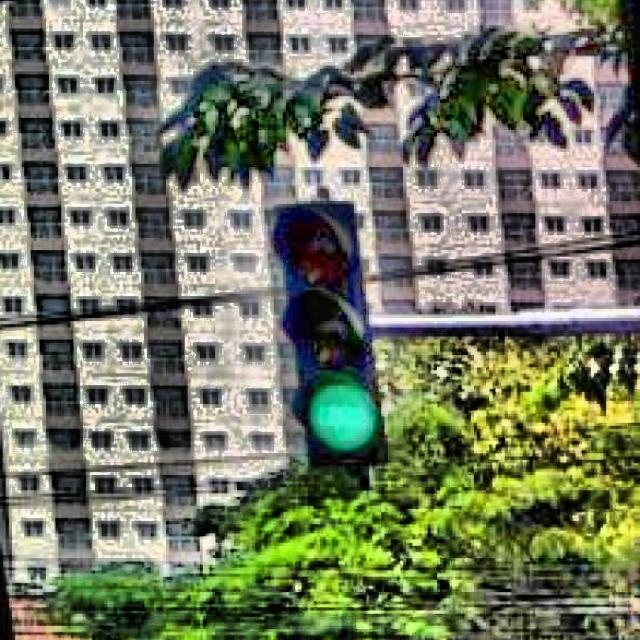green: (272, 206, 392, 470)
